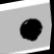correct: (16, 14, 47, 45)
